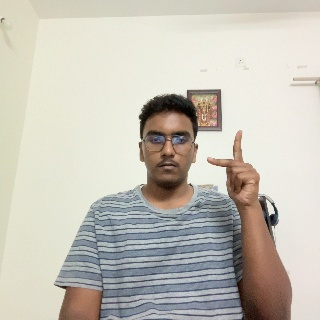Face: (139, 102, 198, 188)
Okay: (207, 129, 266, 222)
